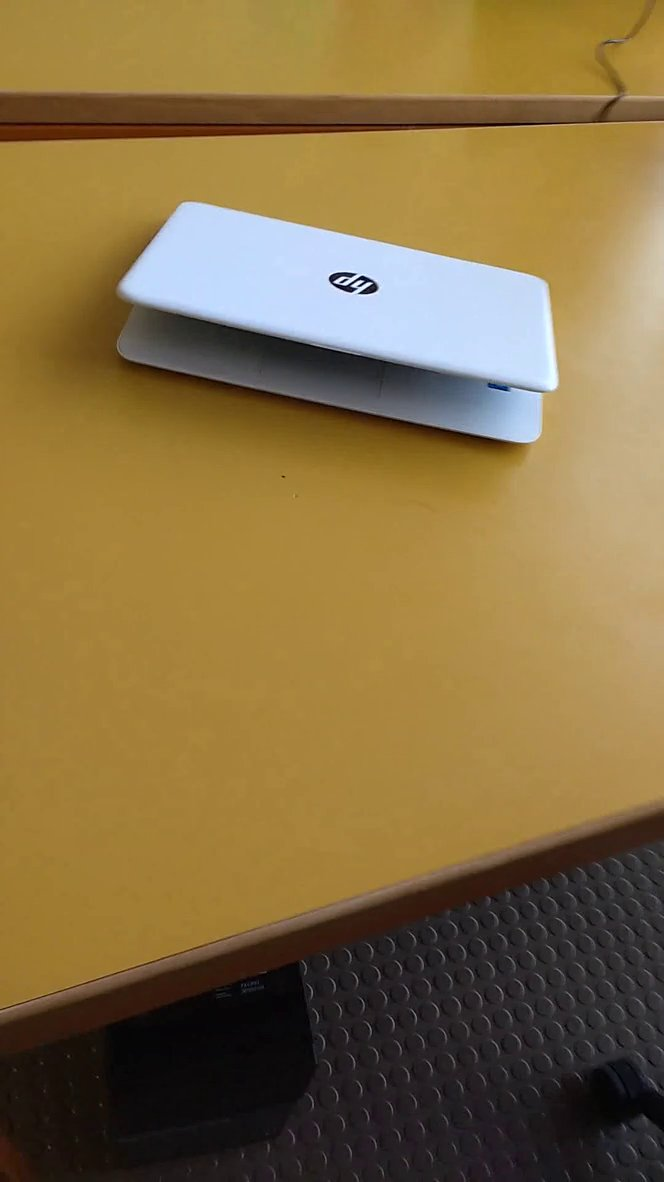laptop: (102, 179, 596, 473)
